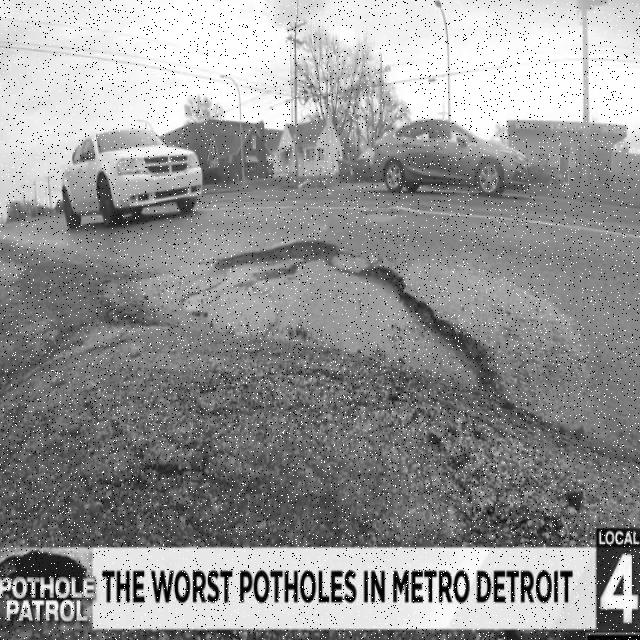pothole: (126, 242, 483, 401)
